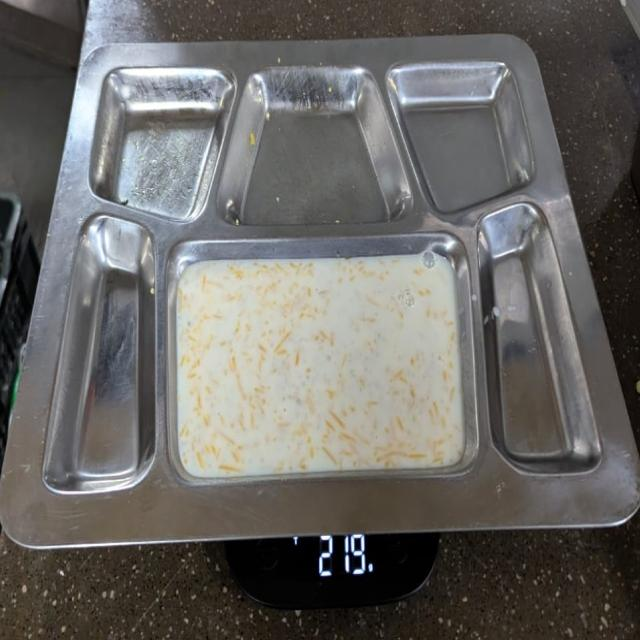Porridge: (176, 251, 468, 473)
